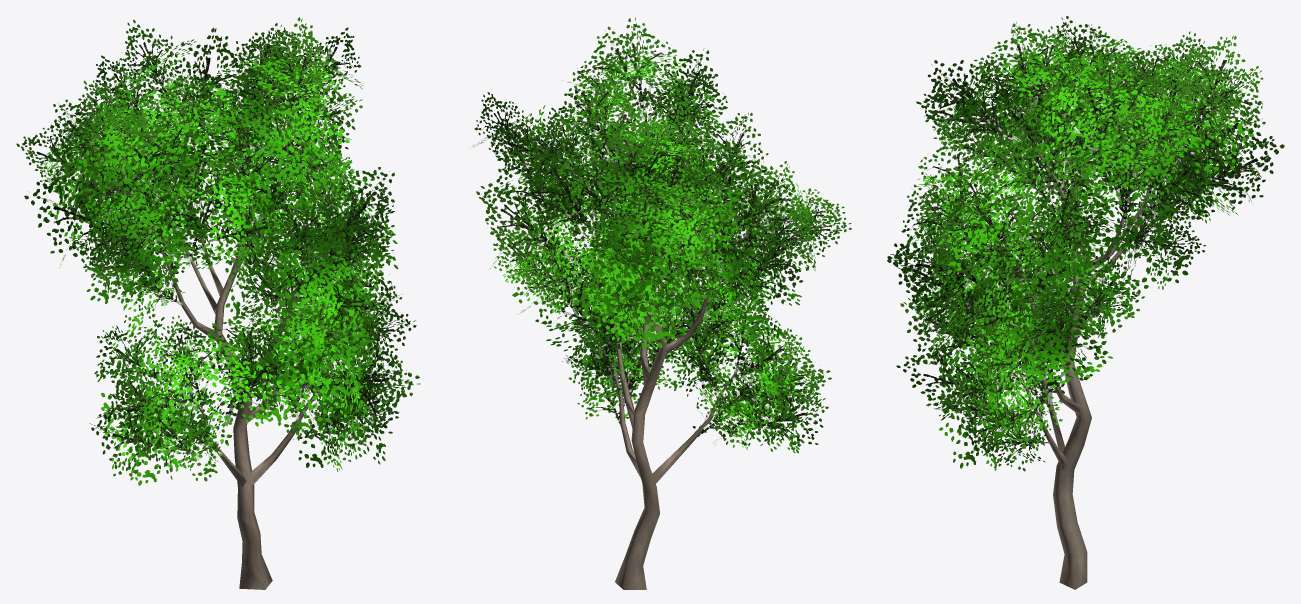
The model's file is tree_Broadleaf_XL2_LOD1.fbx.
3 views of the same model, side by side, from view 1: azimuth 30°, elevation 25°; view 2: azimuth 150°, elevation 25°; view 3: azimuth 270°, elevation 25° (orthographic). The views are drawn at different scales.
Visible parts, largest first — view 1: Broadleaf_XL2_LOD1; view 2: Broadleaf_XL2_LOD1; view 3: Broadleaf_XL2_LOD1.
Part boxes in pixels (bbox=[...]): Broadleaf_XL2_LOD1: bbox=[16, 17, 420, 589]; Broadleaf_XL2_LOD1: bbox=[472, 17, 851, 589]; Broadleaf_XL2_LOD1: bbox=[887, 16, 1284, 589].
Bounding box in the file's own units: 1323 × 2083 × 1326.
